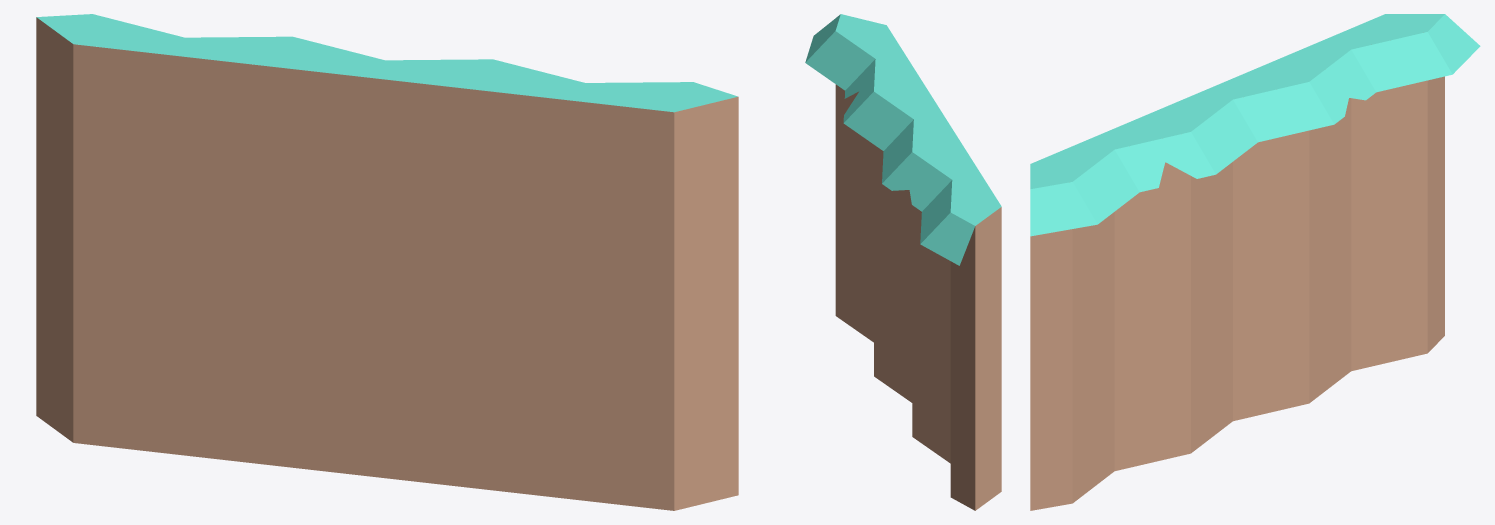
Rendered from cliff_topDiagonal_rock.glb.
3 renders of one model, left to right at view 1: azimuth 30°, elevation 25°; view 2: azimuth 150°, elevation 25°; view 3: azimuth 270°, elevation 25°, orthographic. The views are drawn at different scales.
Visible parts, largest first — view 1: cliff_topDiagonal_rock; view 2: cliff_topDiagonal_rock; view 3: cliff_topDiagonal_rock.
Boxes of the visible parts, left/top/right/bottom form: cliff_topDiagonal_rock: left=36, top=14, right=738, bottom=510; cliff_topDiagonal_rock: left=805, top=14, right=1001, bottom=510; cliff_topDiagonal_rock: left=1030, top=14, right=1480, bottom=510.
Size of the model in its own units: 1.27 by 1 by 1.27.
